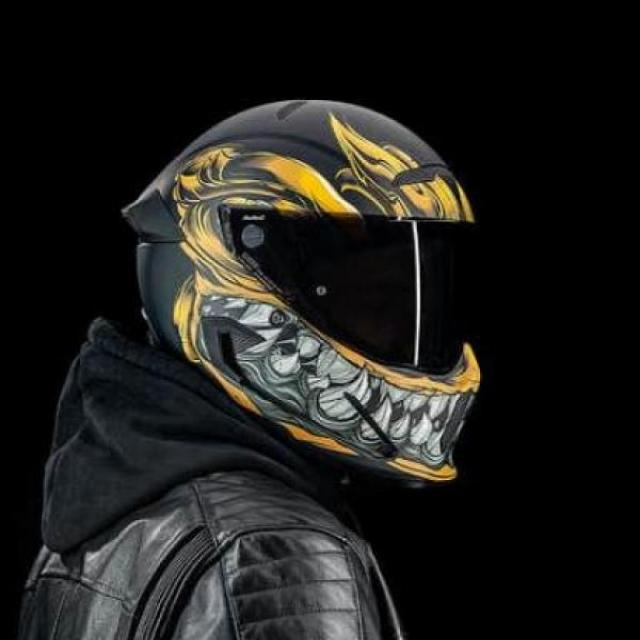Helmet: (130, 78, 485, 486)
